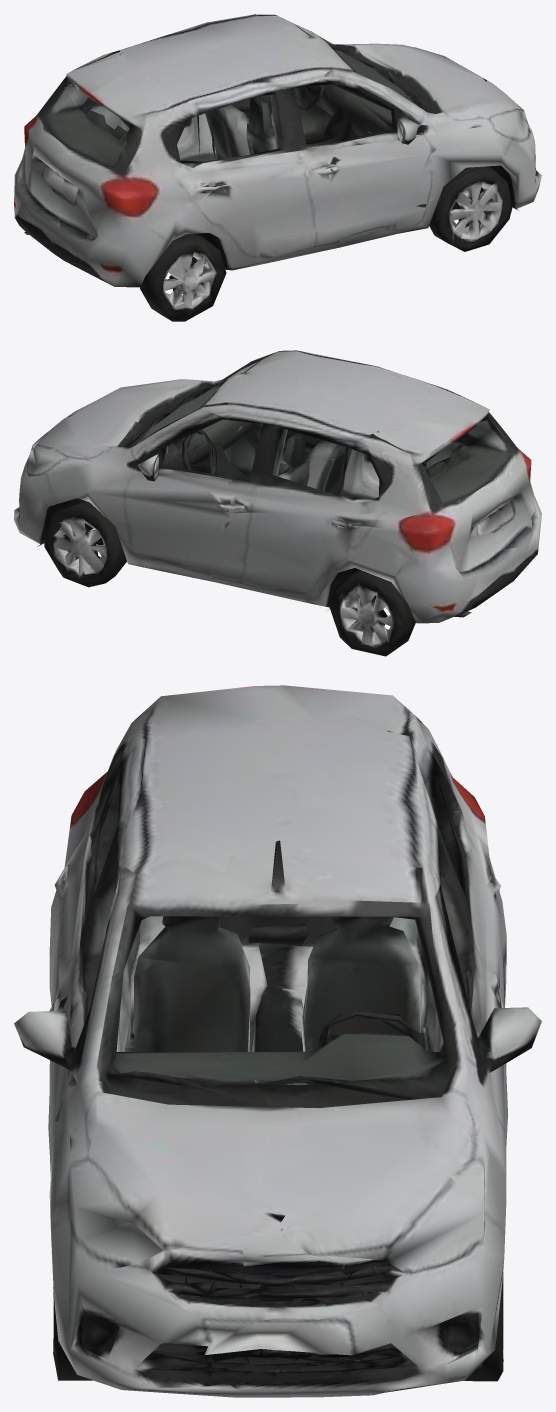
File: car_1.glb
The picture shows the model from 3 angles, top to bottom: view 1: azimuth 30°, elevation 25°; view 2: azimuth 150°, elevation 25°; view 3: azimuth 270°, elevation 25°; orthographic projection. The views are drawn at different scales.
Parts seen in each view (by area): view 1: tripo_node_0b5fa6df-2f47-4c33-af6a-a03d85acd27b; view 2: tripo_node_0b5fa6df-2f47-4c33-af6a-a03d85acd27b; view 3: tripo_node_0b5fa6df-2f47-4c33-af6a-a03d85acd27b.
Part boxes in pixels (x1,y1,x2,y2): tripo_node_0b5fa6df-2f47-4c33-af6a-a03d85acd27b: [14, 14, 541, 321]; tripo_node_0b5fa6df-2f47-4c33-af6a-a03d85acd27b: [14, 350, 541, 656]; tripo_node_0b5fa6df-2f47-4c33-af6a-a03d85acd27b: [14, 685, 541, 1397].
Bounding box in the file's own units: 0.9958 × 0.44 × 0.5047.
1 material, 1 textured.
